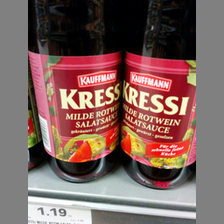vinegar: (27, 1, 120, 183), (123, 1, 198, 190)
